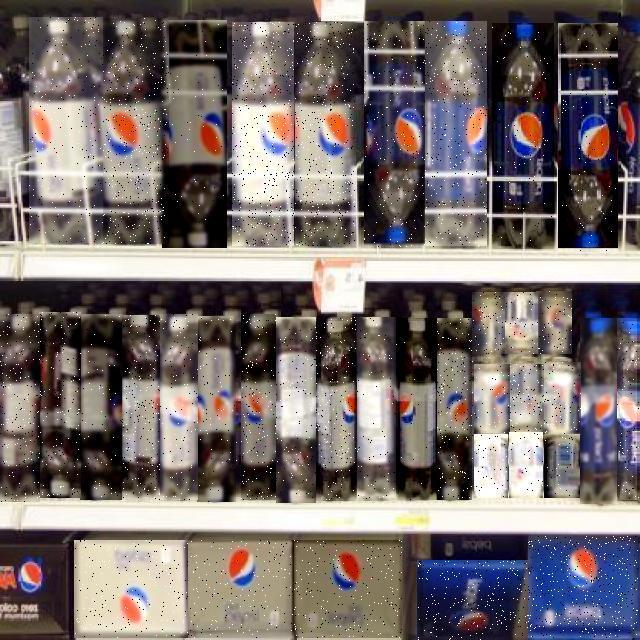Drinks: (29, 17, 103, 243), (96, 19, 169, 245), (162, 20, 227, 248), (365, 22, 427, 248), (492, 23, 554, 249), (425, 22, 487, 248), (232, 22, 294, 246), (559, 24, 619, 252), (296, 23, 356, 247), (528, 537, 638, 639), (74, 540, 188, 638), (292, 540, 402, 638), (188, 540, 294, 638), (417, 560, 528, 640), (80, 314, 122, 500), (39, 313, 81, 499), (0, 315, 40, 503), (198, 316, 238, 502), (120, 316, 160, 502), (276, 317, 316, 503), (316, 316, 356, 501), (358, 318, 398, 500), (397, 318, 437, 500), (159, 315, 198, 501), (436, 318, 474, 500), (580, 319, 617, 505), (241, 314, 276, 500), (618, 318, 640, 500), (545, 362, 581, 435), (510, 364, 546, 433), (475, 364, 511, 433), (545, 434, 581, 498), (536, 291, 572, 354), (509, 433, 543, 499), (475, 434, 509, 498), (504, 292, 538, 354), (472, 292, 505, 354)
